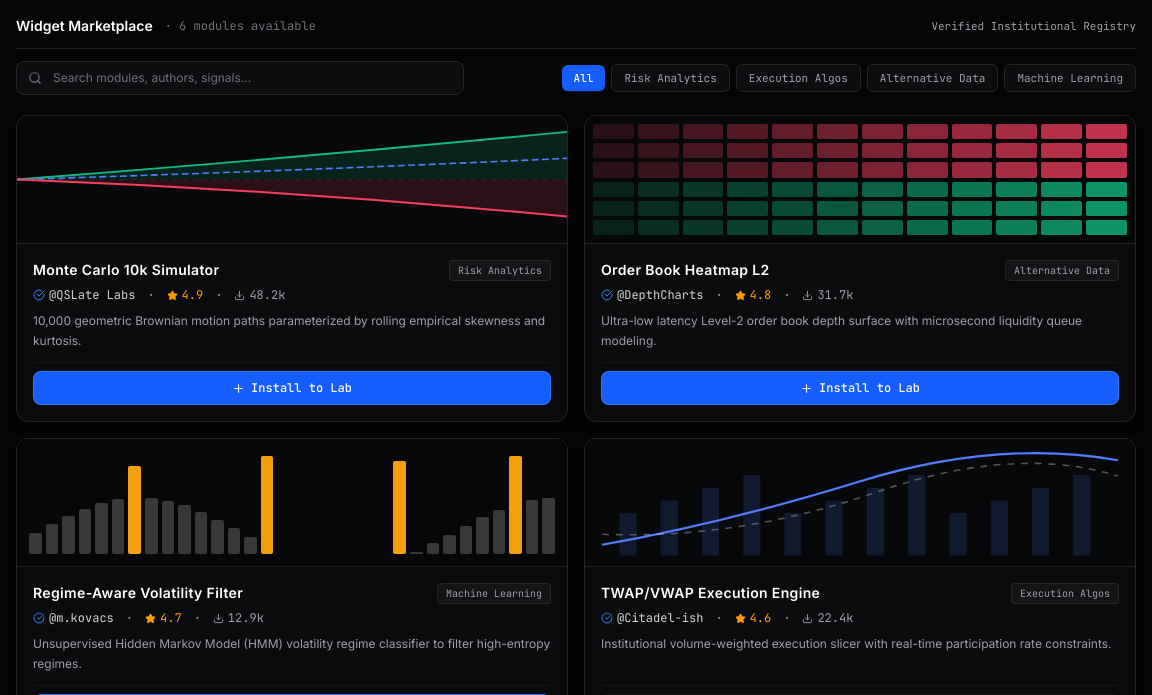
Test case: MarketplaceView › filters modules by search query
In the field with placeholder "Search modules, authors, signals...": (240, 78) [16,61,464,95], type "Monte Carlo"
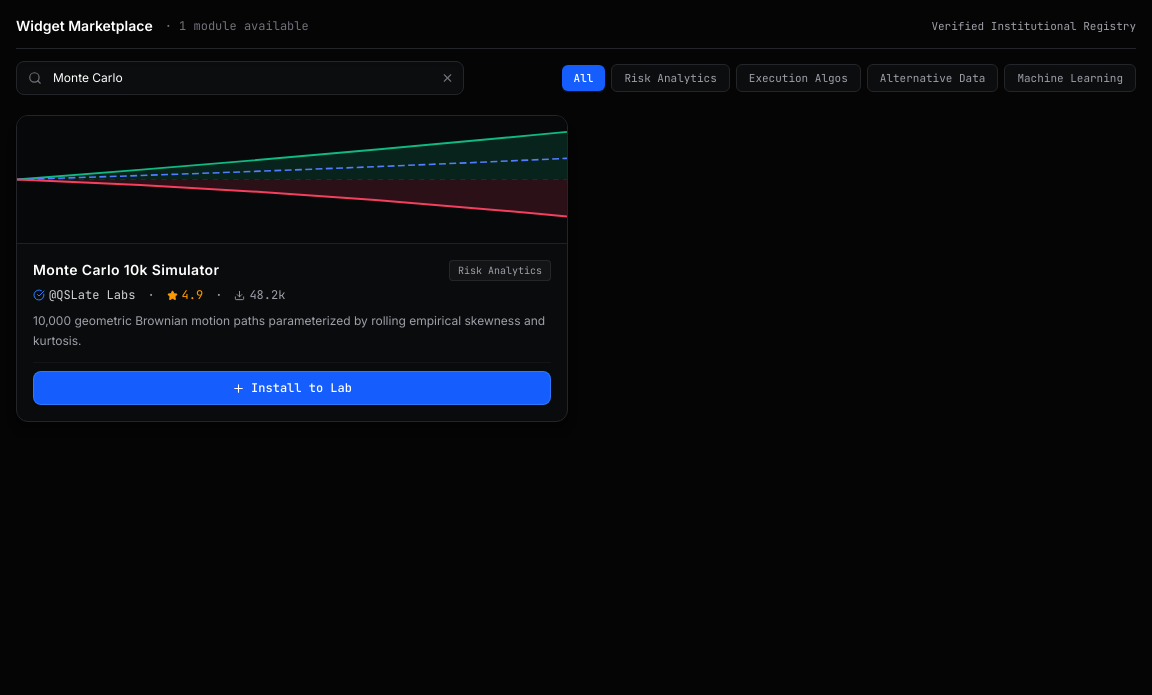
Expected: the heading "Monte Carlo 10k Simulator" is shown, [33,260,219,280]
Expected: the heading "Order Book Heatmap L2" is gone
